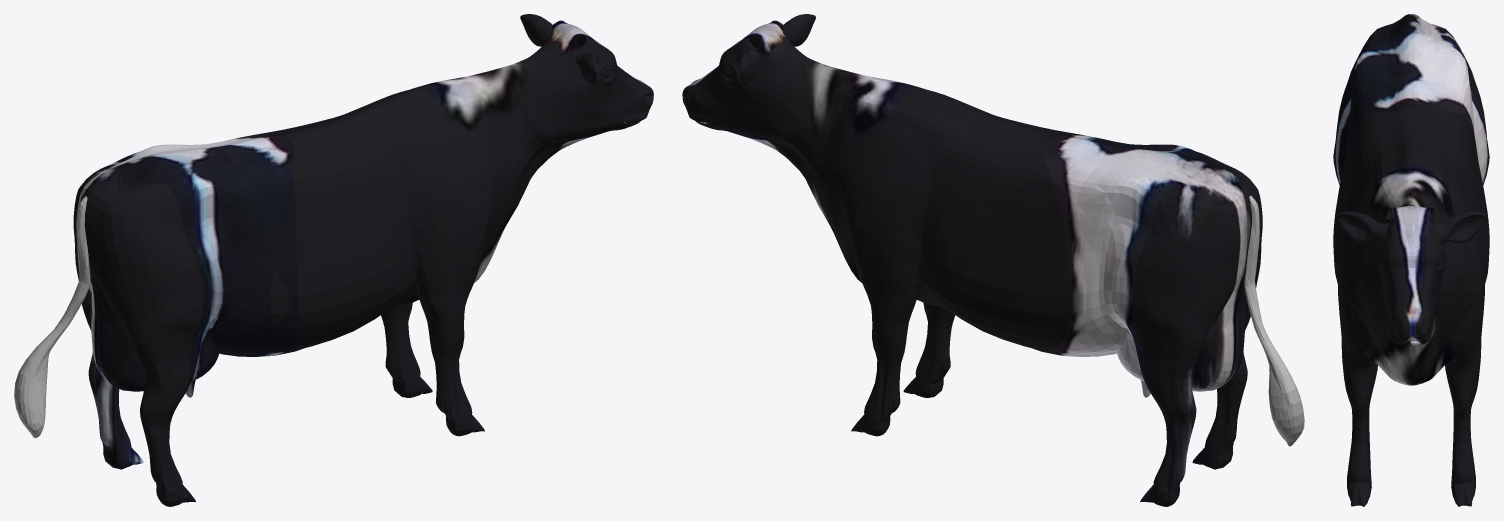
The model's file is cow20.dae.
3 views of the same model, side by side, from view 1: azimuth 30°, elevation 25°; view 2: azimuth 150°, elevation 25°; view 3: azimuth 270°, elevation 25° (orthographic).
Parts seen in each view (by area): view 1: cow0, ___DUMMY_cow; view 2: cow0, ___DUMMY_cow; view 3: cow0.
Part boxes in pixels (box(x1,y1,x2,y2)): cow0: box(73, 14, 653, 506); ___DUMMY_cow: box(14, 196, 90, 438); cow0: box(682, 14, 1262, 506); ___DUMMY_cow: box(1244, 196, 1304, 446); cow0: box(1333, 14, 1489, 506).
Bounding box in the file's own units: 2.96 × 0.6402 × 1.61.
Materials: 2 (1 with a texture image).
